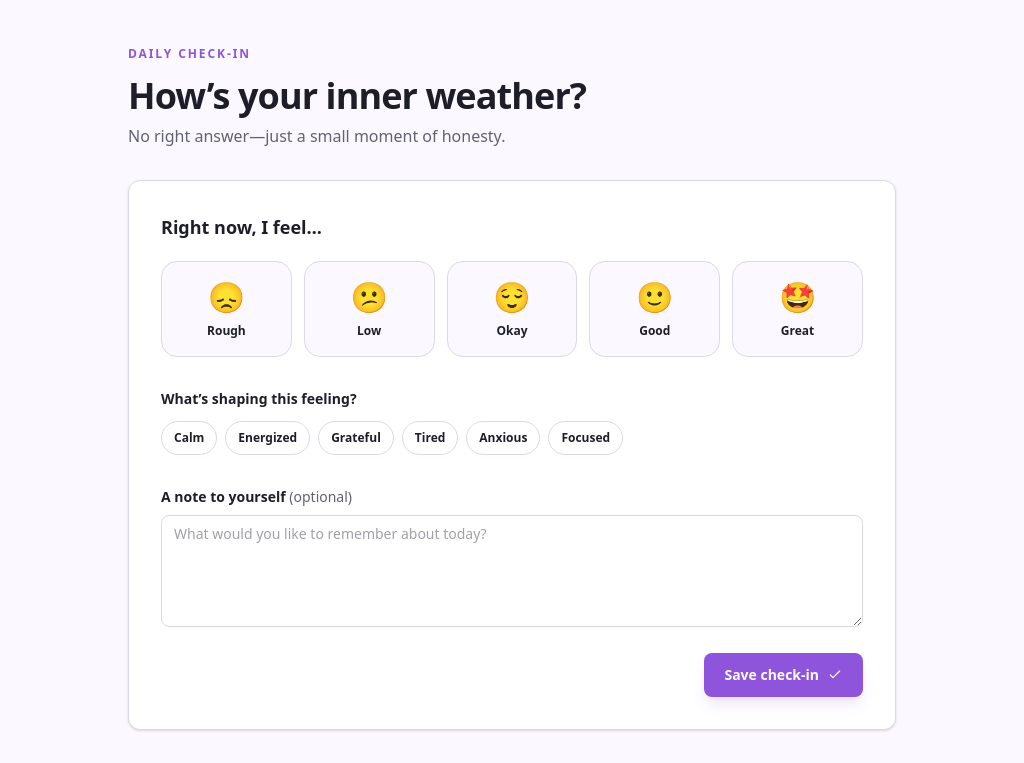
TodayPage › surfaces mood-save and habit-toggle failures
Click the button "😌 Okay".
click(512, 309)  # box left=447, top=261, right=577, bottom=357
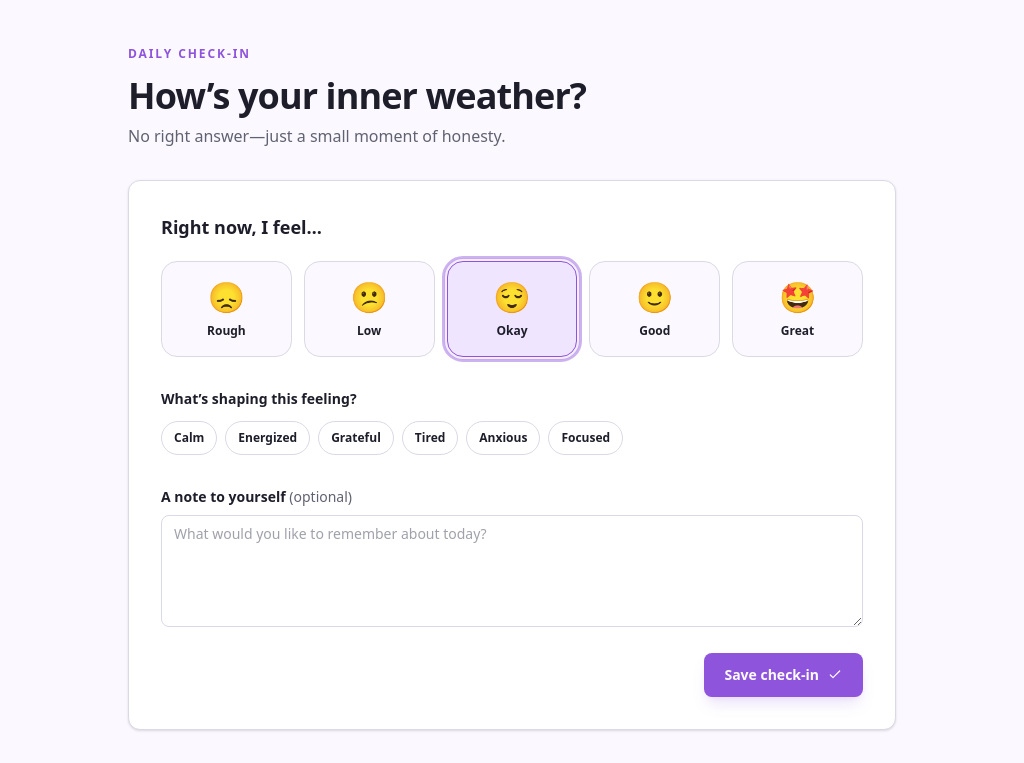
Click the button "Save check-in".
click(784, 675)  # box left=704, top=653, right=863, bottom=697
(page scrolled)
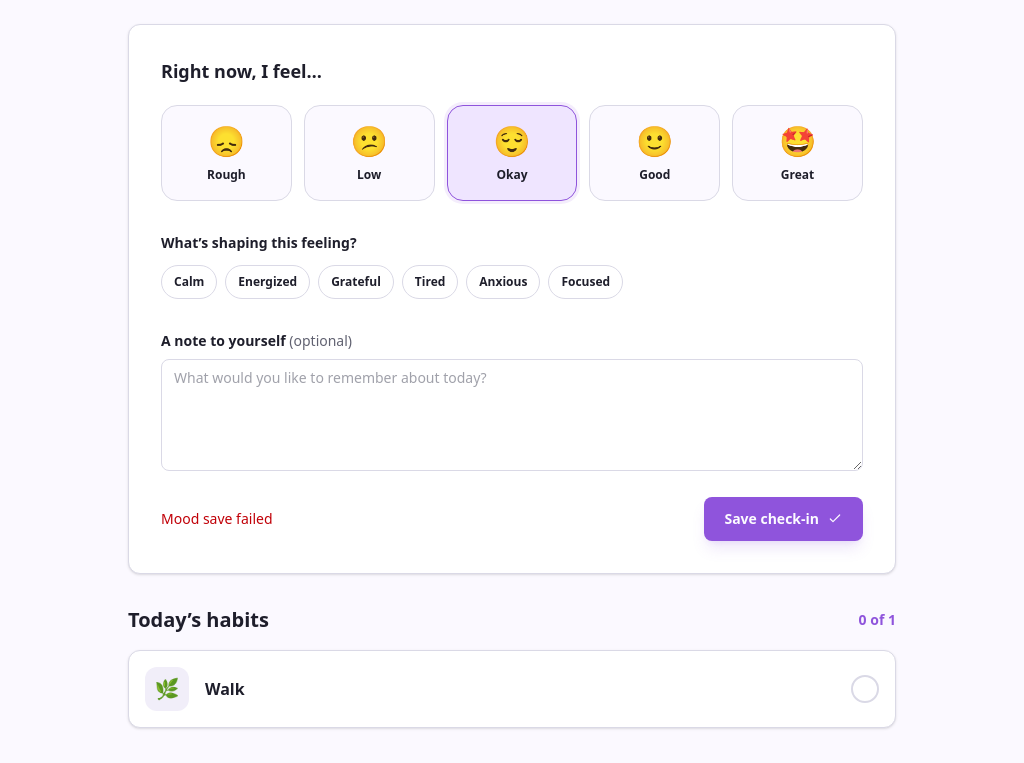
Expected: the text "Mood save failed" is shown, left=161, top=509, right=272, bottom=529
Click the button "🌿 Walk".
click(167, 689)  # box left=128, top=650, right=896, bottom=728
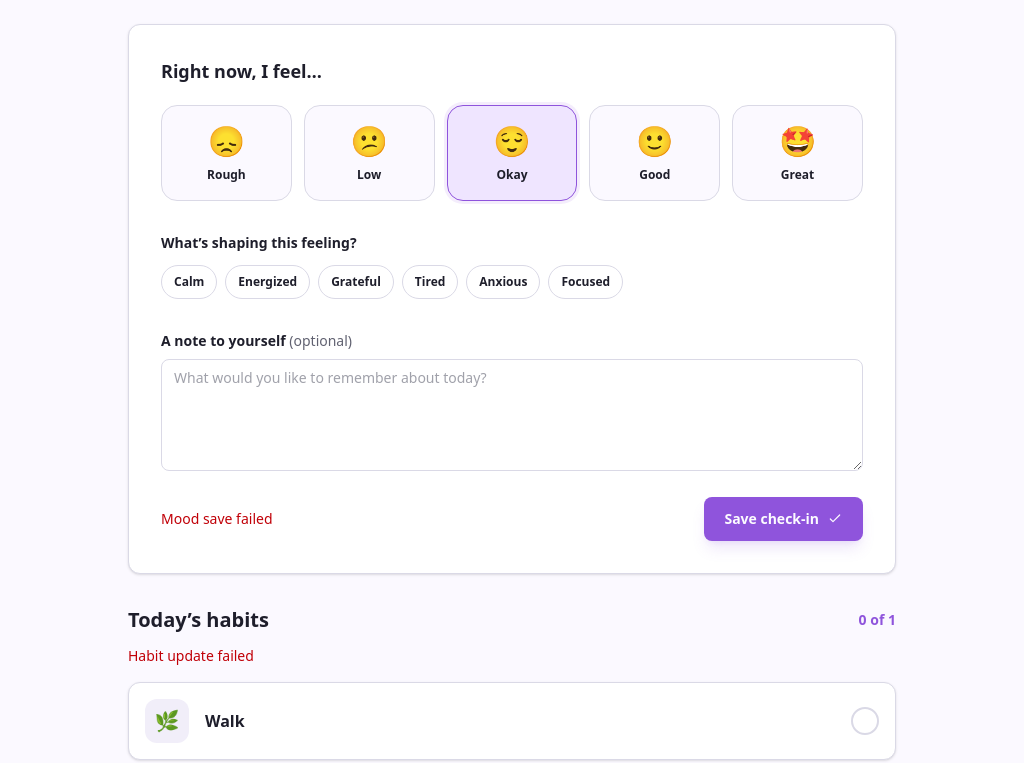
Expected: the text "Habit update failed" is shown, left=128, top=646, right=254, bottom=665
